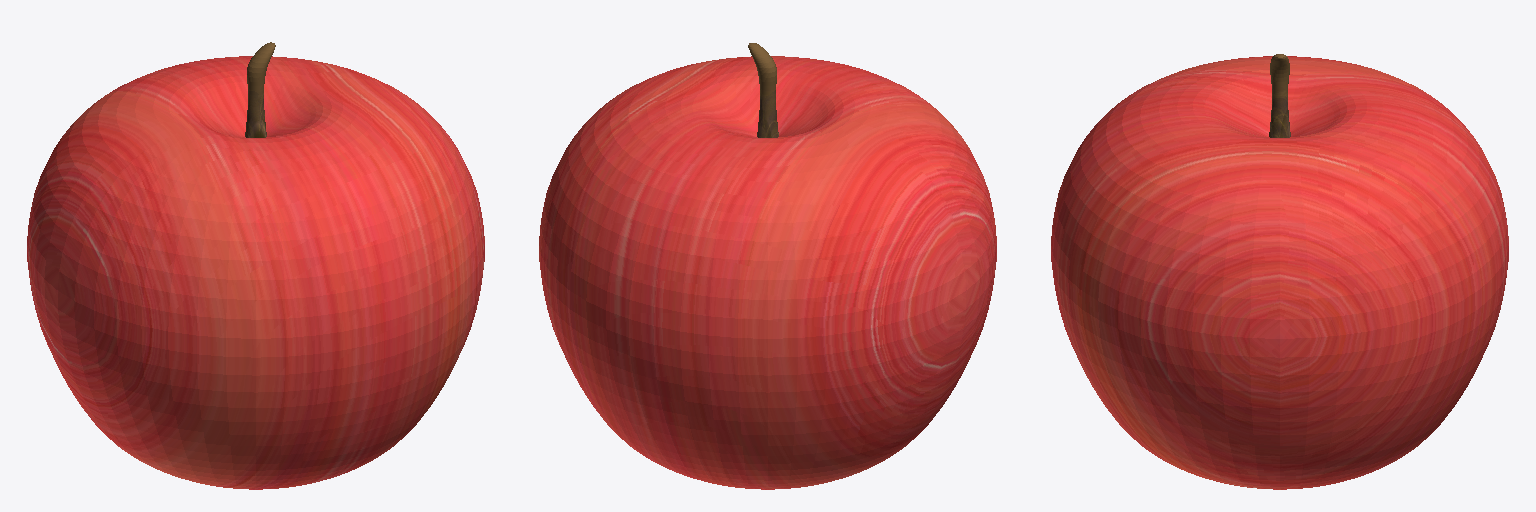
The picture shows the model from 3 angles: view 1: azimuth 30°, elevation 25°; view 2: azimuth 150°, elevation 25°; view 3: azimuth 270°, elevation 25°; orthographic projection.
Visible parts, largest first — view 1: Circle, Circle.001; view 2: Circle, Circle.001; view 3: Circle, Circle.001.
Boxes of the visible parts, box(x1,y1,x2,y2) form: Circle: box(27, 56, 484, 489); Circle.001: box(245, 42, 275, 137); Circle: box(539, 56, 996, 489); Circle.001: box(748, 43, 778, 137); Circle: box(1051, 56, 1508, 489); Circle.001: box(1269, 54, 1290, 137).
Size of the model in its own units: 2.25 by 2.26 by 2.25.
2 materials, 2 textured.